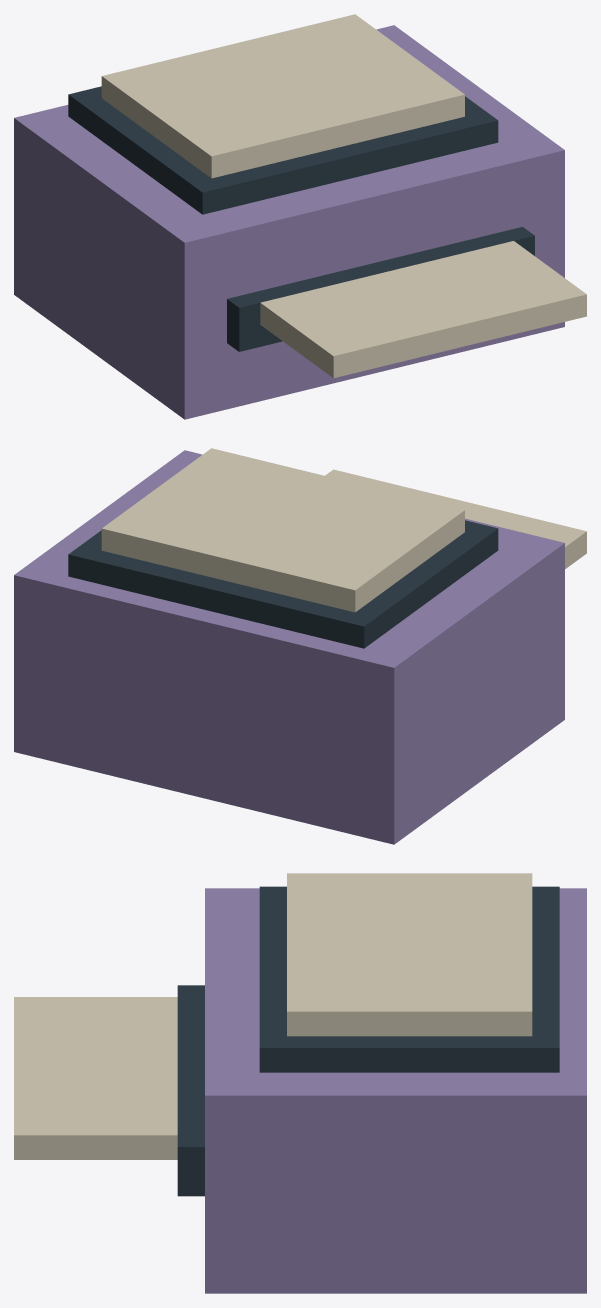
The model's file is social-16.glb.
3 views of the same model, one above another, from view 1: azimuth 30°, elevation 25°; view 2: azimuth 150°, elevation 25°; view 3: azimuth 270°, elevation 25° (orthographic). The views are drawn at different scales.
Visible parts, largest first — view 1: Sticker printer; view 2: Sticker printer; view 3: Sticker printer.
Boxes of the visible parts, left/top/right/bottom form: Sticker printer: left=14, top=14, right=586, bottom=419; Sticker printer: left=14, top=448, right=586, bottom=844; Sticker printer: left=14, top=873, right=586, bottom=1293.
Size of the model in its own units: 1.44 by 0.8 by 1.68.
